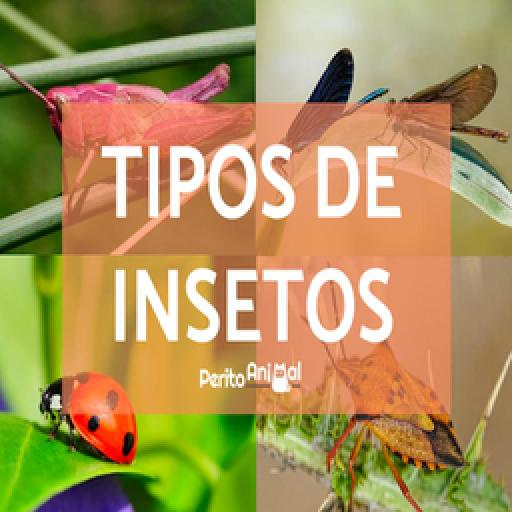insects: (299, 258, 473, 512), (4, 52, 248, 206), (262, 36, 384, 176), (390, 59, 506, 183), (39, 374, 139, 464)
